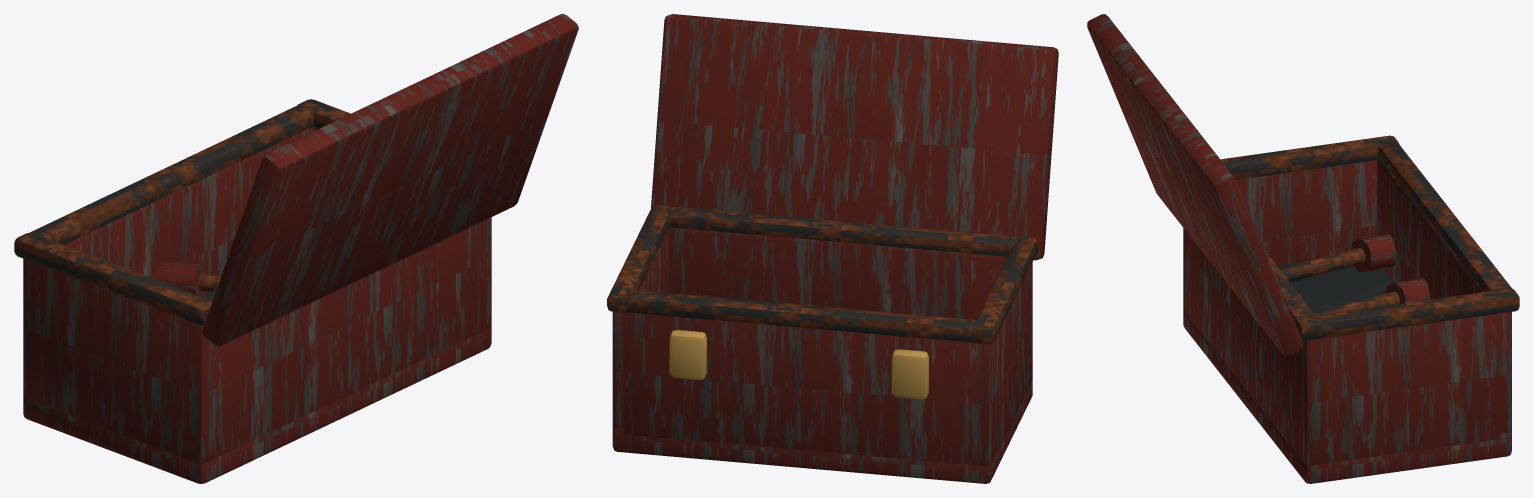
File: SM_OpenToolbox_20d6fff596.fbx
3 renders of one model, left to right at view 1: azimuth 30°, elevation 25°; view 2: azimuth 150°, elevation 25°; view 3: azimuth 270°, elevation 25°, orthographic. The views are drawn at different scales.
Parts seen in each view (by area): view 1: SM_OpenToolbox_20d6fff596; view 2: SM_OpenToolbox_20d6fff596; view 3: SM_OpenToolbox_20d6fff596.
Part boxes in pixels (x1=…): SM_OpenToolbox_20d6fff596: x1=14, y1=14, x2=578, y2=483; SM_OpenToolbox_20d6fff596: x1=607, y1=14, x2=1058, y2=483; SM_OpenToolbox_20d6fff596: x1=1087, y1=14, x2=1519, y2=483.
Size of what is drawn, in the model's own units: 71.07 by 63.34 by 52.31.
Materials: 4 (2 with a texture image).
